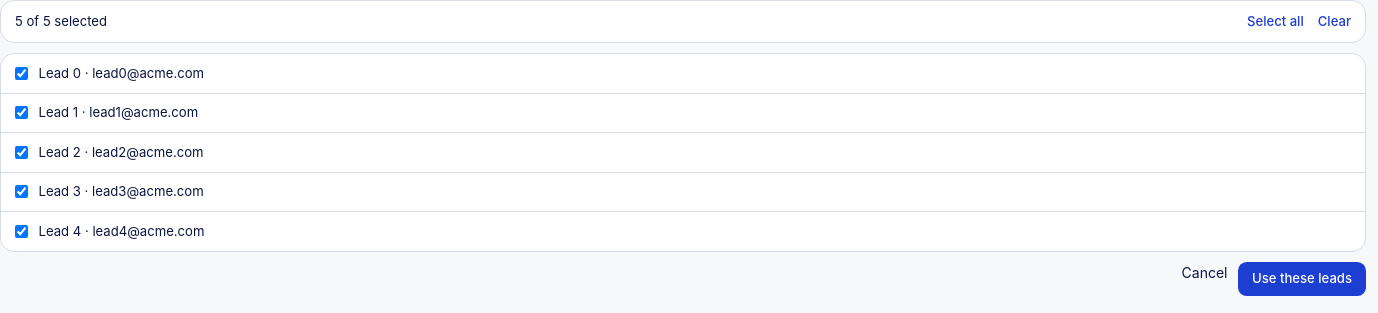
Test: AdsLeadsSelector › unchecking a lead updates the count
Click the checkbox labelled "Lead 0 · lead0@acme.com" at (22, 73), box [15,67,28,80]
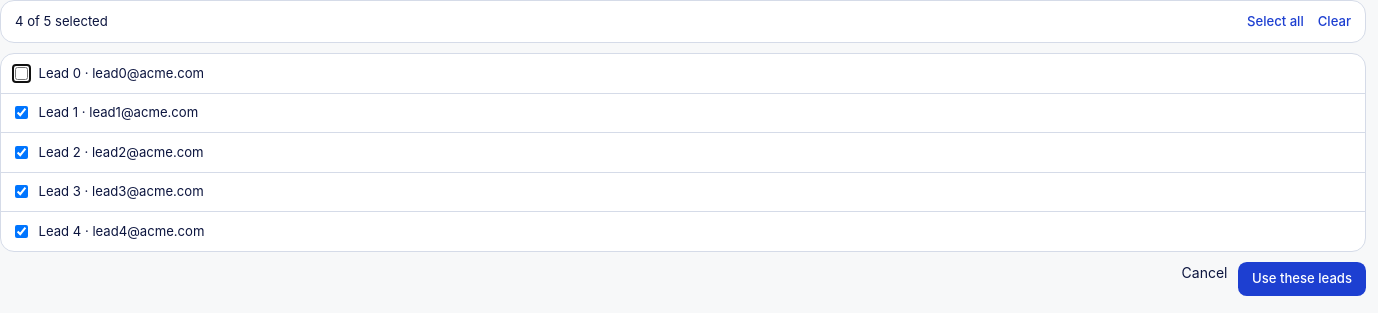
Check: the text "4 of 5 selected" is shown, box [15,12,108,31]
